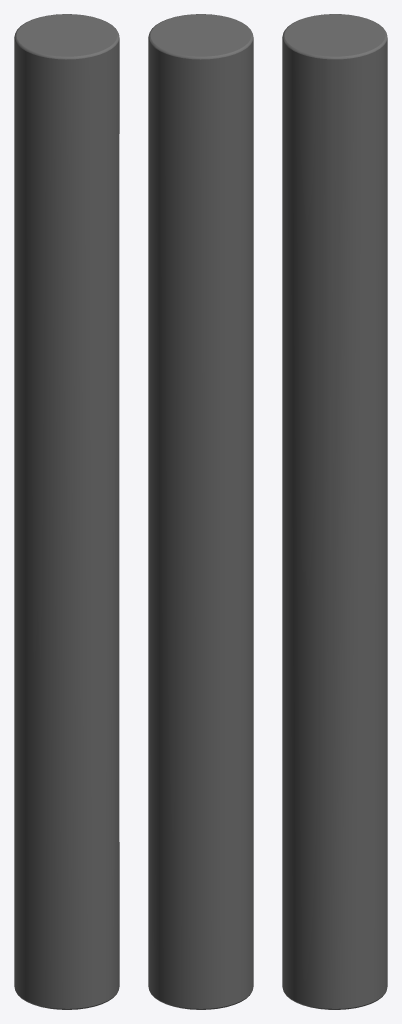
File: duz_pim.glb
3 renders of one model, left to right at view 1: azimuth 30°, elevation 25°; view 2: azimuth 150°, elevation 25°; view 3: azimuth 330°, elevation 25°, orthographic.
Parts seen in each view (by area): view 1: dÃ¼z Pim.001; view 2: dÃ¼z Pim.001; view 3: dÃ¼z Pim.001.
Part boxes in pixels (x1,y1,x2,y2): dÃ¼z Pim.001: [14, 14, 119, 1009]; dÃ¼z Pim.001: [148, 14, 253, 1009]; dÃ¼z Pim.001: [282, 14, 387, 1009].
Bounding box in the file's own units: 0.005 × 0.05 × 0.005.
Materials: 1 (1 with a texture image).
